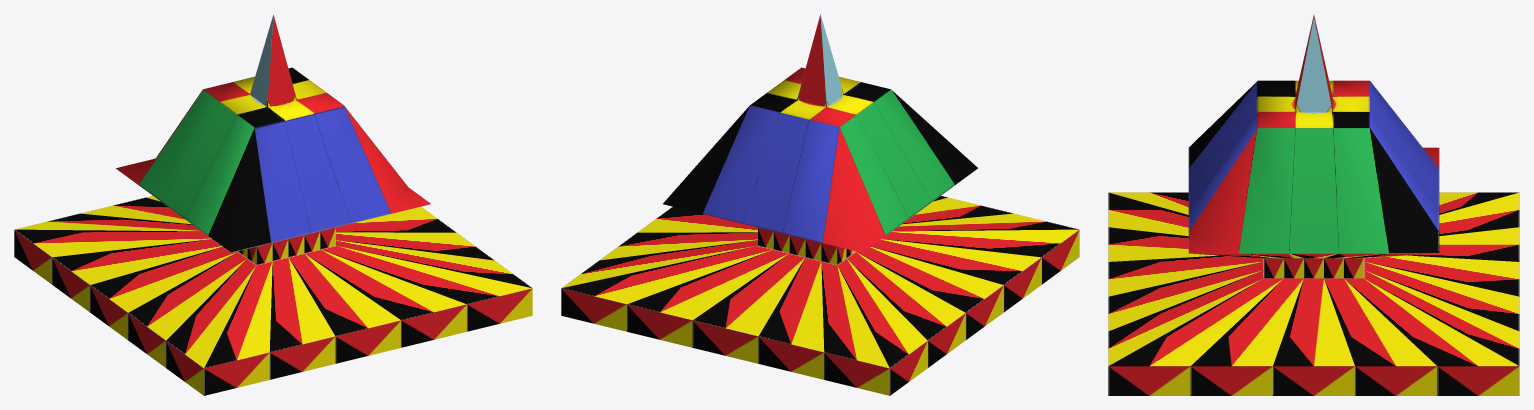
The model's file is blob.obj.
The picture shows the model from 3 angles, left to right: view 1: azimuth 30°, elevation 25°; view 2: azimuth 150°, elevation 25°; view 3: azimuth 270°, elevation 25°; orthographic projection. The views are drawn at different scales.
Visible parts, largest first — view 1: pPlane1; view 2: pPlane1; view 3: pPlane1.
Boxes of the visible parts, x1,y1,x2,y2 form: pPlane1: (14,14,532,395); pPlane1: (561,14,1079,395); pPlane1: (1108,15,1519,395).
Size of the model in its own units: 0.8658 by 0.6854 by 0.8658.
Materials: 1 (1 with a texture image).
